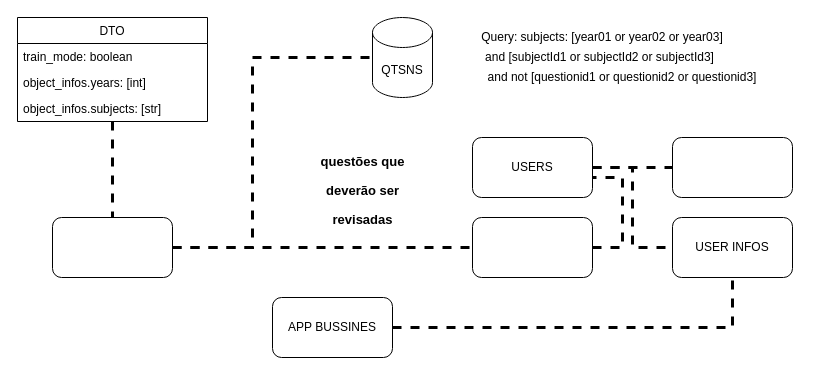
The diagram is 825 pixels wide and 375 high, and some of its shapes have lost their labels. The shapes that lost their labels are listed below. From the top down, each one's box as (x1, y1, x2, y2) in pixels, then its label:
(672, 136, 792, 198): USER ACCOUNT
(52, 216, 172, 278): SIMULATE
(472, 216, 592, 278): USER QUESTIONS
